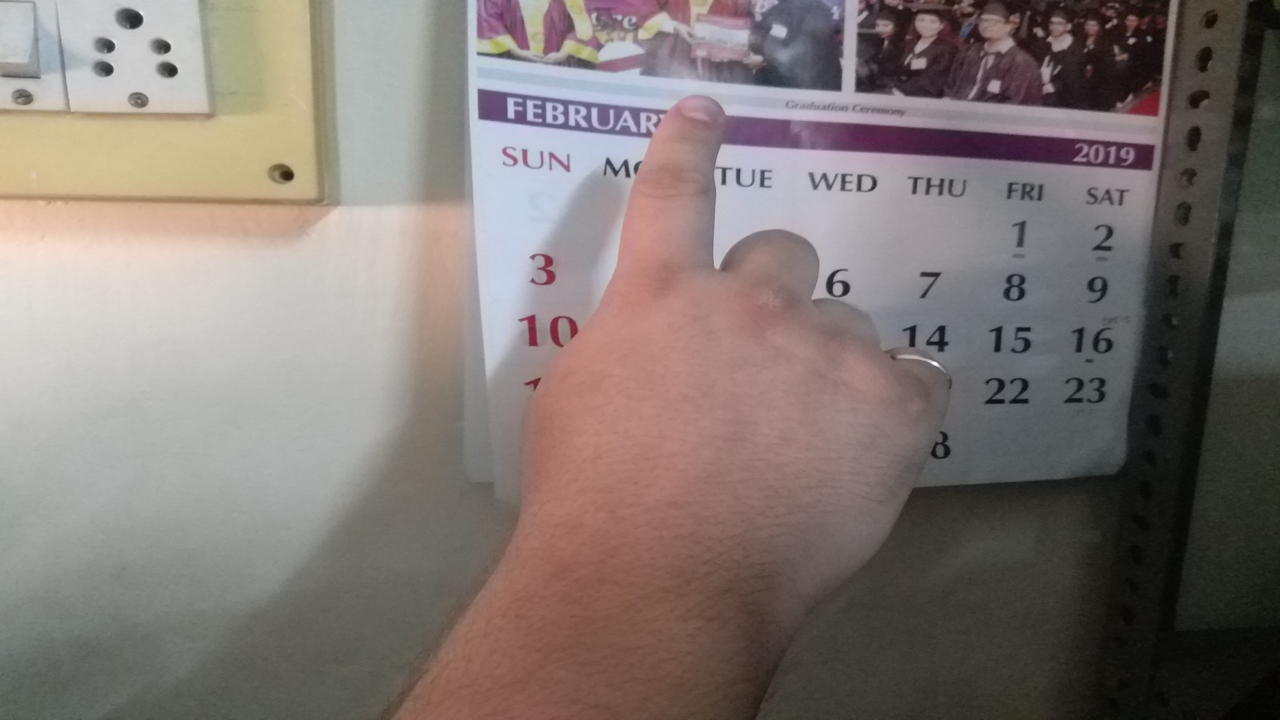fingertip: (658, 86, 730, 140)
